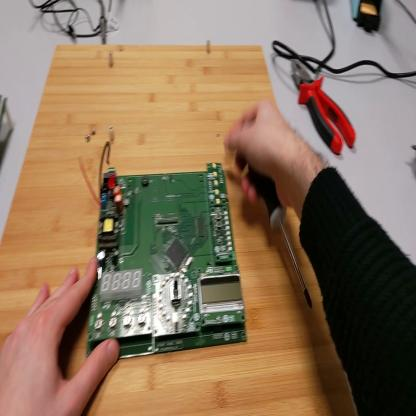hand: (2, 258, 116, 416), (223, 101, 302, 215)
low voltage board: (78, 144, 251, 357)
oscilloscope probe tip: (100, 2, 109, 43)
pliers: (292, 61, 356, 156)
screwdriver-: (240, 152, 313, 308)
welder base: (352, 1, 385, 38)
working area: (1, 44, 357, 413)
